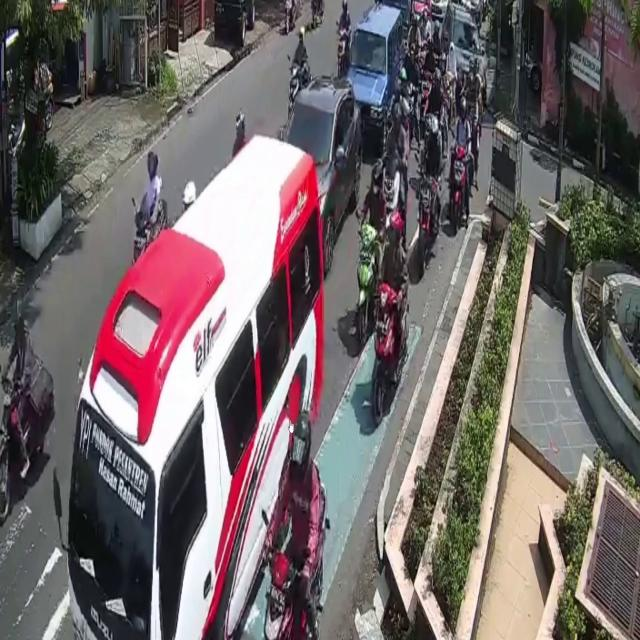bus: (266, 484, 328, 640), (0, 377, 30, 533), (354, 225, 382, 349), (374, 280, 396, 416), (416, 173, 434, 275), (452, 143, 468, 227), (285, 63, 308, 119), (336, 24, 354, 76)
car: (68, 135, 324, 637)
motorcycle: (281, 75, 360, 271), (351, 0, 407, 144), (442, 2, 487, 111)
